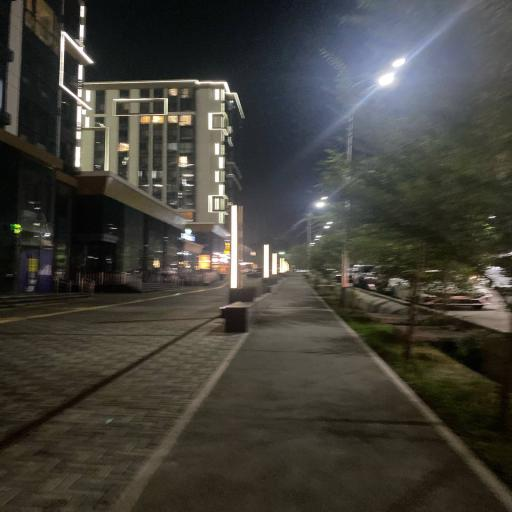shelf: (120, 278, 509, 511)
trash_bin: (220, 302, 258, 332)
